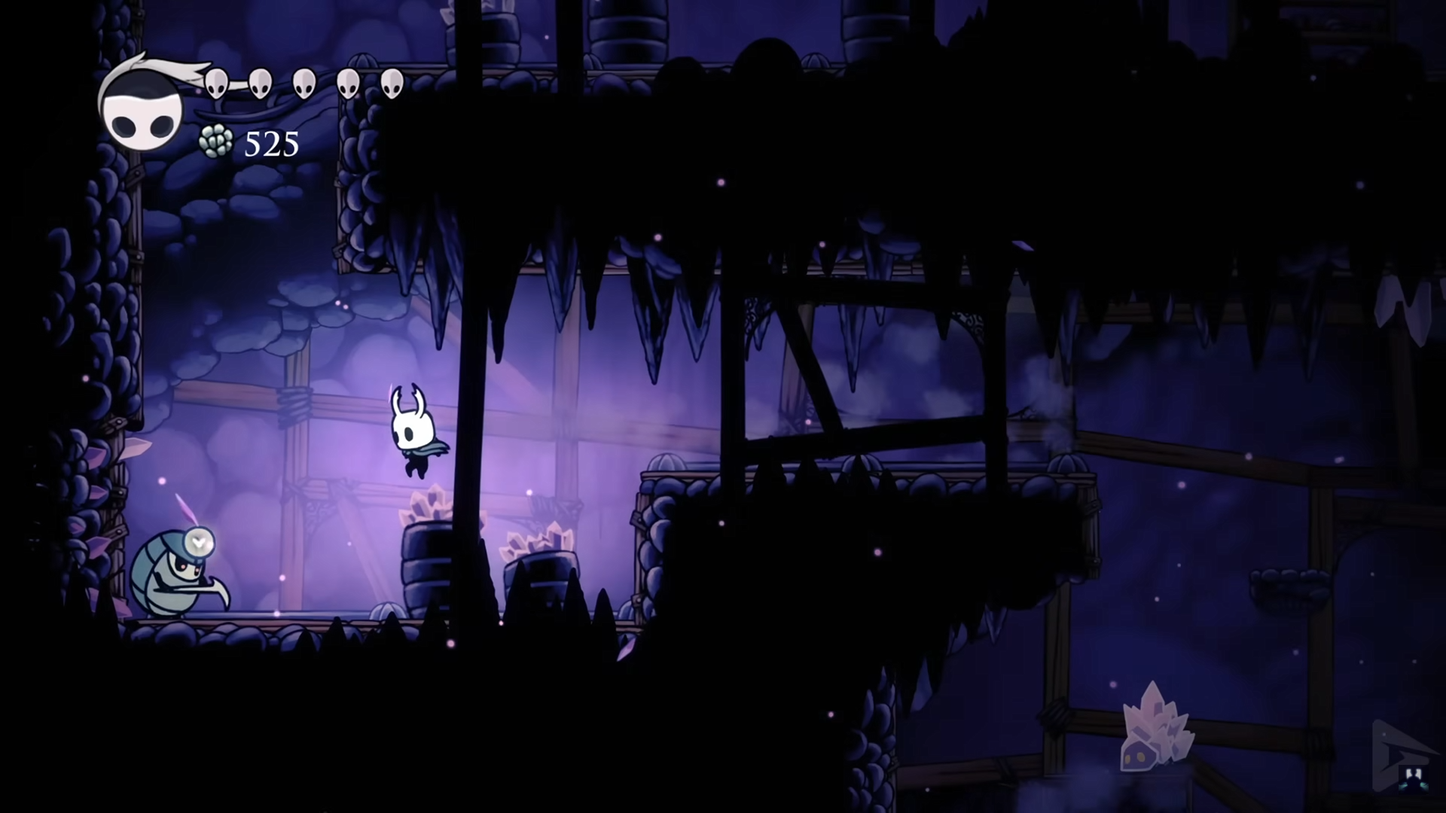HK: (387, 379, 450, 484)
